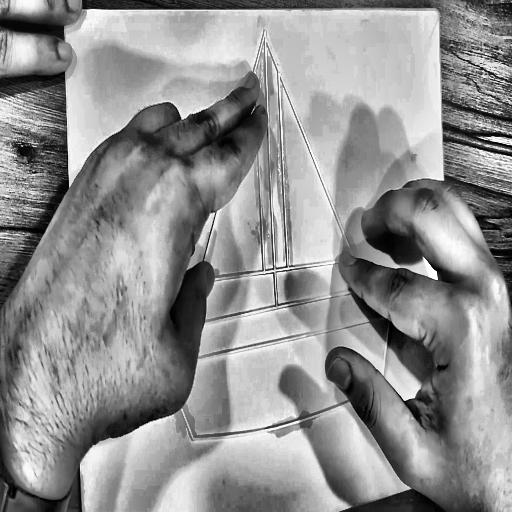boat: (131, 12, 407, 463)
bottom_right: (454, 452, 463, 467)
top_left: (60, 5, 69, 21)
top_right: (434, 4, 444, 18)
